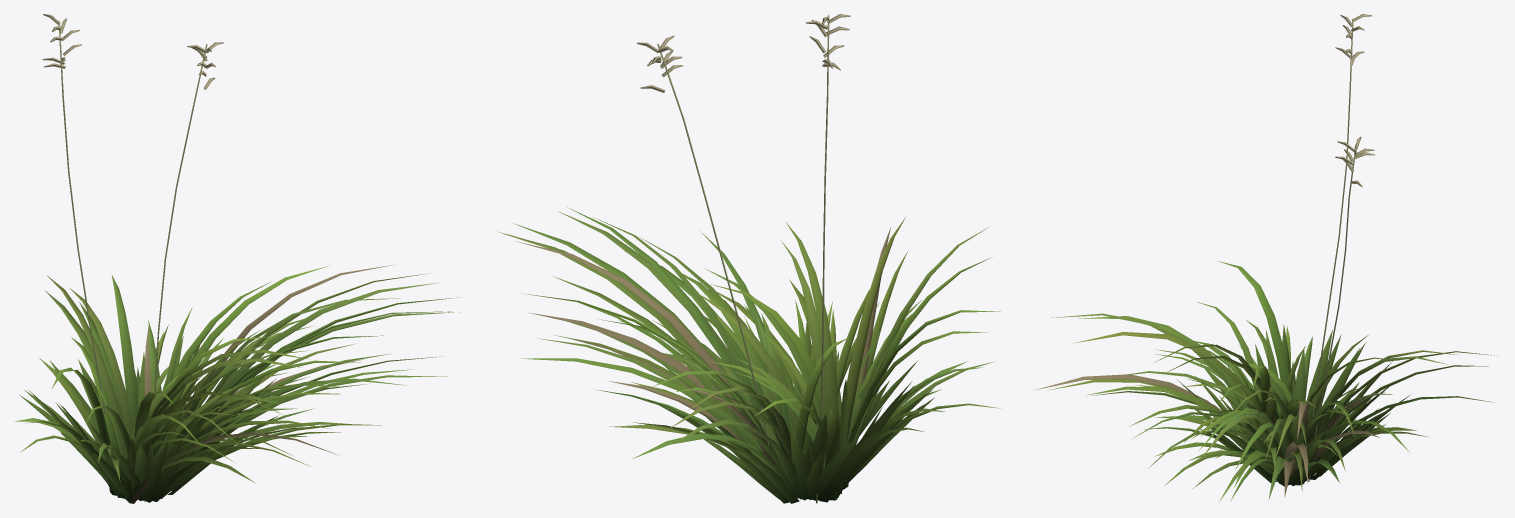
Rendered from eco_sedge_bank_LOD0.glb.
3 renders of one model, left to right at view 1: azimuth 30°, elevation 25°; view 2: azimuth 150°, elevation 25°; view 3: azimuth 270°, elevation 25°, orthographic. The views are drawn at different scales.
Parts seen in each view (by area): view 1: eco_sedge_bank_LOD0; view 2: eco_sedge_bank_LOD0; view 3: eco_sedge_bank_LOD0.
Part boxes in pixels (x1=…): eco_sedge_bank_LOD0: x1=14, y1=14, x2=460, y2=503; eco_sedge_bank_LOD0: x1=497, y1=14, x2=1000, y2=503; eco_sedge_bank_LOD0: x1=1034, y1=14, x2=1497, y2=501.
Size of the model in its own units: 0.968 by 0.9684 by 0.9451.
